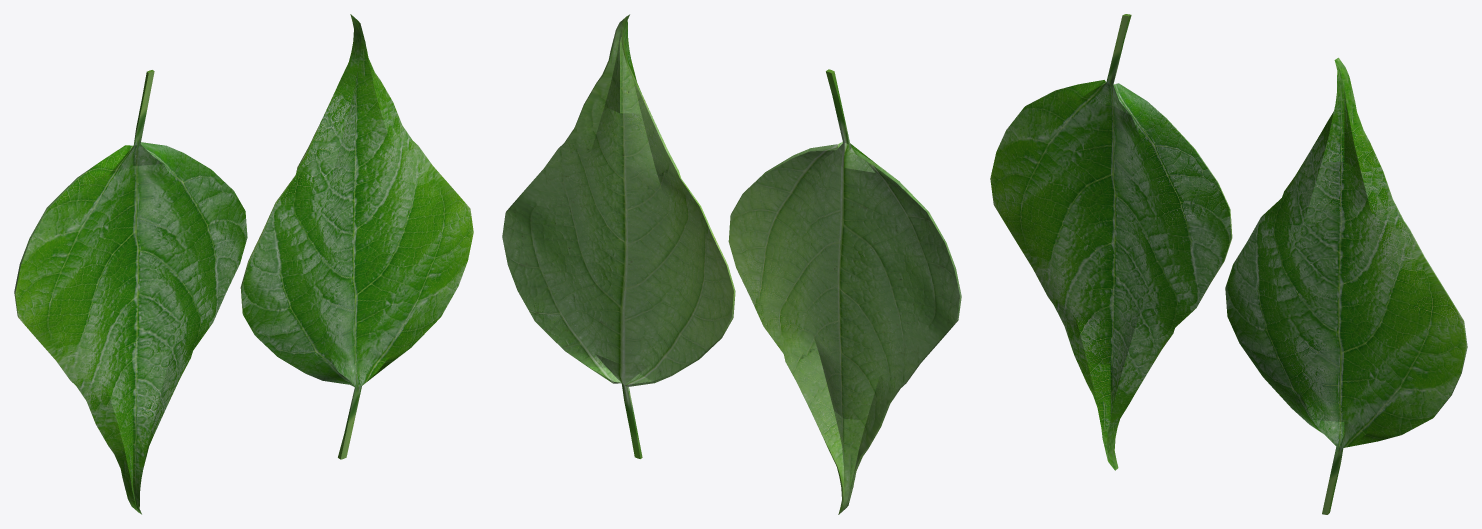
File: Leafs.fbx
3 renders of one model, left to right at view 1: azimuth 30°, elevation 25°; view 2: azimuth 150°, elevation 25°; view 3: azimuth 330°, elevation 25°, orthographic. The views are drawn at different scales.
Visible parts, largest first — view 1: Pintar:pasted__pPlane2, Pintar:pasted__pPlane1; view 2: Pintar:pasted__pPlane1, Pintar:pasted__pPlane2; view 3: Pintar:pasted__pPlane1, Pintar:pasted__pPlane2.
Boxes of the visible parts, x1,y1,x2,y2 form: Pintar:pasted__pPlane2: (14,70,247,514); Pintar:pasted__pPlane1: (240,14,473,459); Pintar:pasted__pPlane1: (502,14,735,458); Pintar:pasted__pPlane2: (728,69,961,514); Pintar:pasted__pPlane1: (1225,57,1467,514); Pintar:pasted__pPlane2: (990,14,1232,470).
Size of the model in its own units: 25.48 by 23.72 by 0.7829.
1 material, 1 textured.
